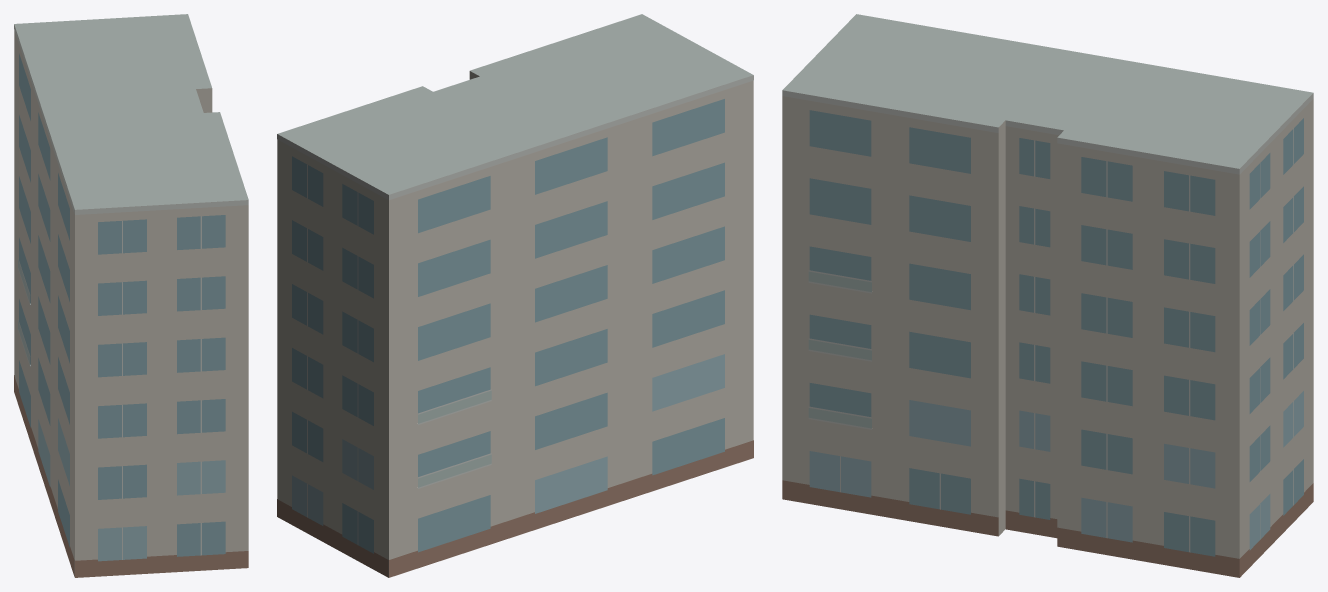
File: survey-upis-32652663.glb
3 renders of one model, left to right at view 1: azimuth 30°, elevation 25°; view 2: azimuth 150°, elevation 25°; view 3: azimuth 270°, elevation 25°, orthographic. The views are drawn at different scales.
Parts seen in each view (by area): view 1: survey-upis-32652663.tmp; view 2: survey-upis-32652663.tmp; view 3: survey-upis-32652663.tmp.
Boxes of the visible parts, x1,y1,x2,y2 form: survey-upis-32652663.tmp: (14, 14, 248, 577); survey-upis-32652663.tmp: (277, 14, 753, 577); survey-upis-32652663.tmp: (782, 14, 1313, 577).
Size of the model in its own units: 14.06 by 17.3 by 20.38.
